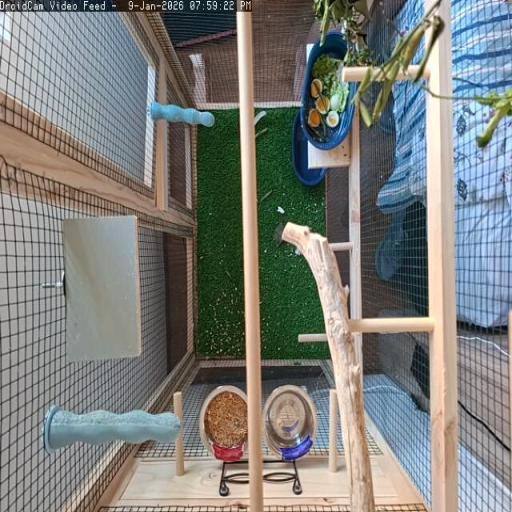bebedero: (263, 386, 315, 460)
comedero: (199, 385, 247, 461)
